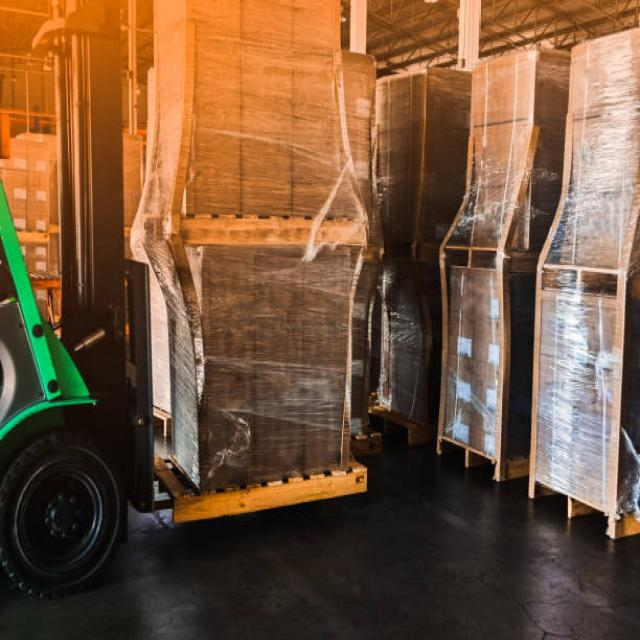Wooden-Pallets: (174, 474, 369, 525)
